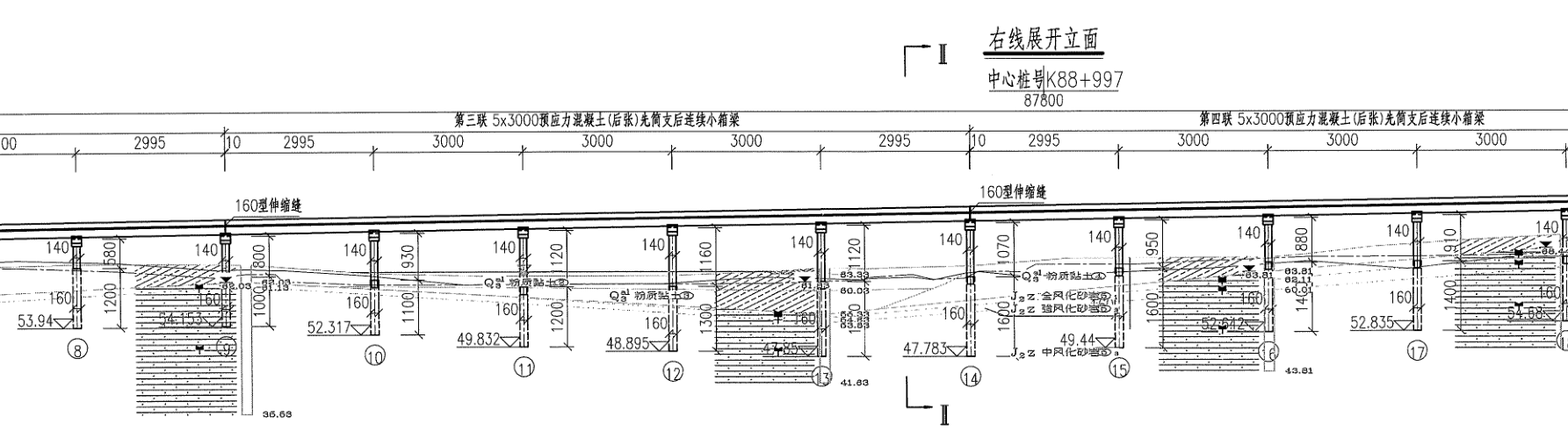A: (3, 92, 1565, 124)
B: (206, 101, 1009, 154), (965, 100, 1567, 145)
C: (893, 214, 989, 394), (597, 219, 689, 390), (1340, 205, 1434, 369), (447, 222, 540, 385), (298, 225, 391, 374), (768, 217, 837, 391), (1213, 208, 1287, 369), (153, 227, 240, 362), (8, 229, 92, 365), (1072, 212, 1136, 384)
